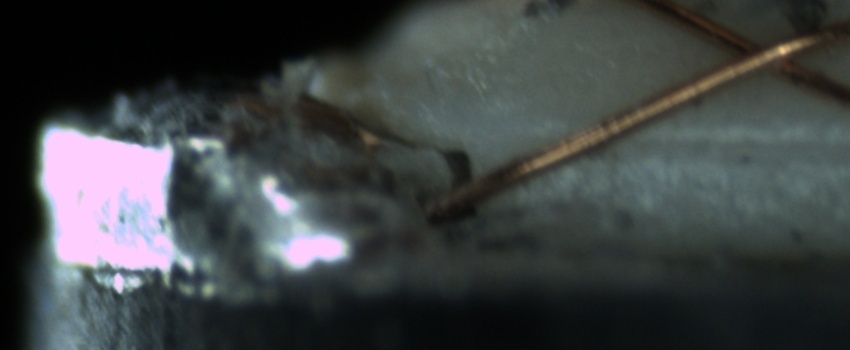CL: (697, 26, 827, 87)
DL: (551, 106, 843, 175)
